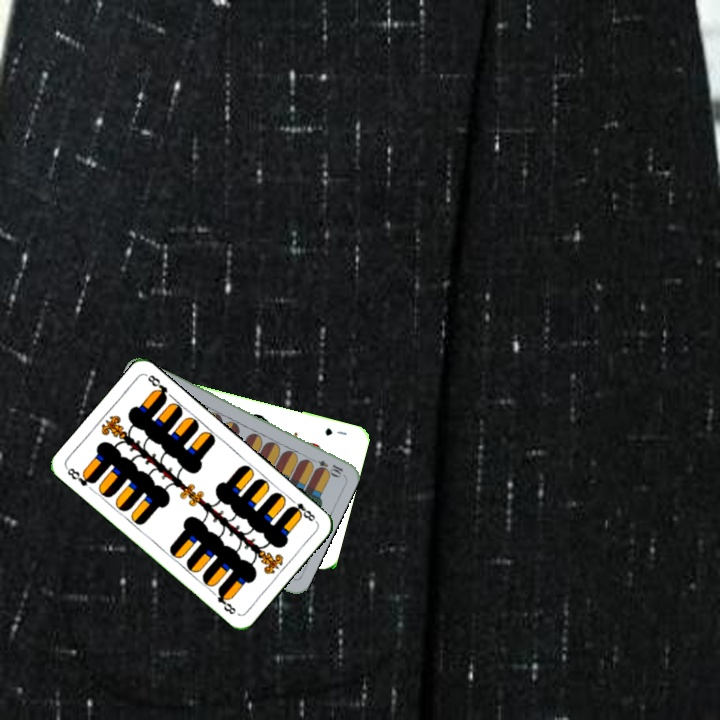E10: (306, 454, 346, 478)
E8: (286, 494, 318, 524), (63, 464, 98, 489)
GU: (321, 424, 349, 438)
